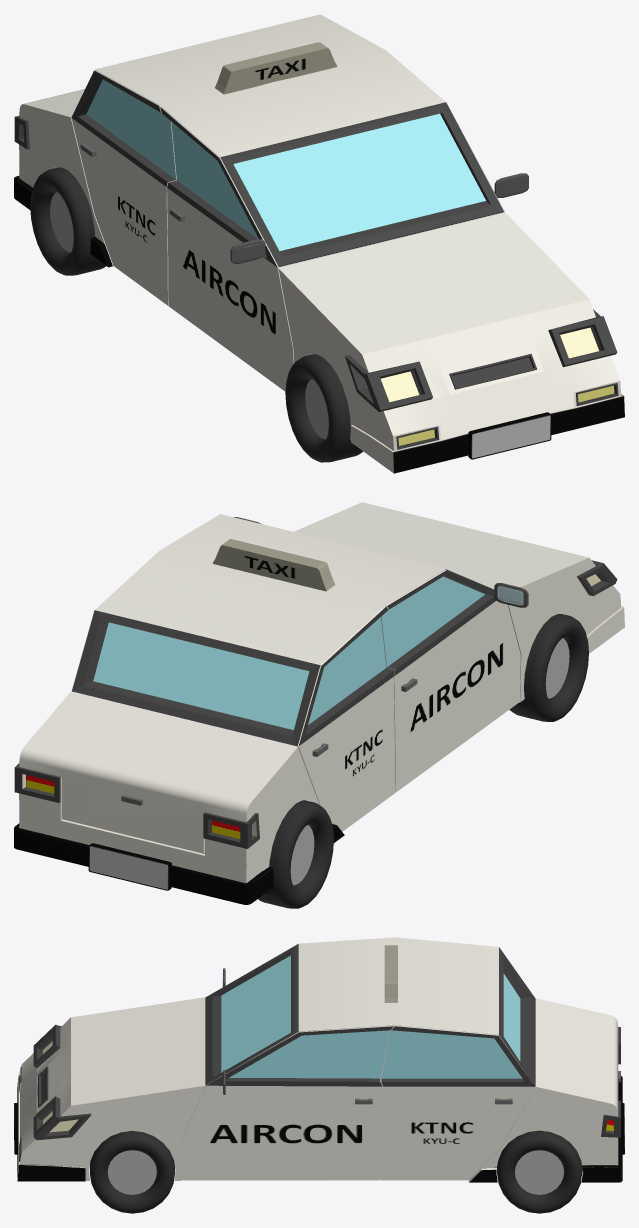
The model's file is Taxi_fixed.fbx.
3 views of the same model, one above another, from view 1: azimuth 30°, elevation 25°; view 2: azimuth 150°, elevation 25°; view 3: azimuth 270°, elevation 25° (orthographic). The views are drawn at different scales.
Visible parts, largest first — view 1: pCube21, polySurface69, polySurface67, pCube22, pasted__Liscense_Plate7, pCube24, pCube23; view 2: pCube21, polySurface69, polySurface67, pCube22, pasted__Liscense_Plate6, pCube24; view 3: pCube21, polySurface66, polySurface68, pCube22.
Part boxes in pixels (x1=…): pCube21: x1=14, y1=14, x2=624, y2=473; polySurface69: x1=285, y1=354, x2=362, y2=462; polySurface67: x1=30, y1=167, x2=105, y2=275; pCube22: x1=215, y1=42, x2=337, y2=94; pasted__Liscense_Plate7: x1=468, y1=412, x2=551, y2=459; pCube24: x1=230, y1=239, x2=266, y2=263; pCube23: x1=494, y1=173, x2=528, y2=197; pCube21: x1=14, y1=502, x2=624, y2=904; polySurface69: x1=509, y1=614, x2=588, y2=721; polySurface67: x1=258, y1=800, x2=333, y2=908; pCube22: x1=213, y1=539, x2=335, y2=591; pasted__Liscense_Plate6: x1=88, y1=843, x2=171, y2=890; pCube24: x1=492, y1=583, x2=528, y2=607; pCube21: x1=17, y1=937, x2=622, y2=1182; polySurface66: x1=497, y1=1130, x2=582, y2=1213; polySurface68: x1=90, y1=1131, x2=174, y2=1213; pCube22: x1=384, y1=945, x2=397, y2=1002.
Bounding box in the file's own units: 3.29 × 2.69 × 7.34.
6 materials, 5 textured.
